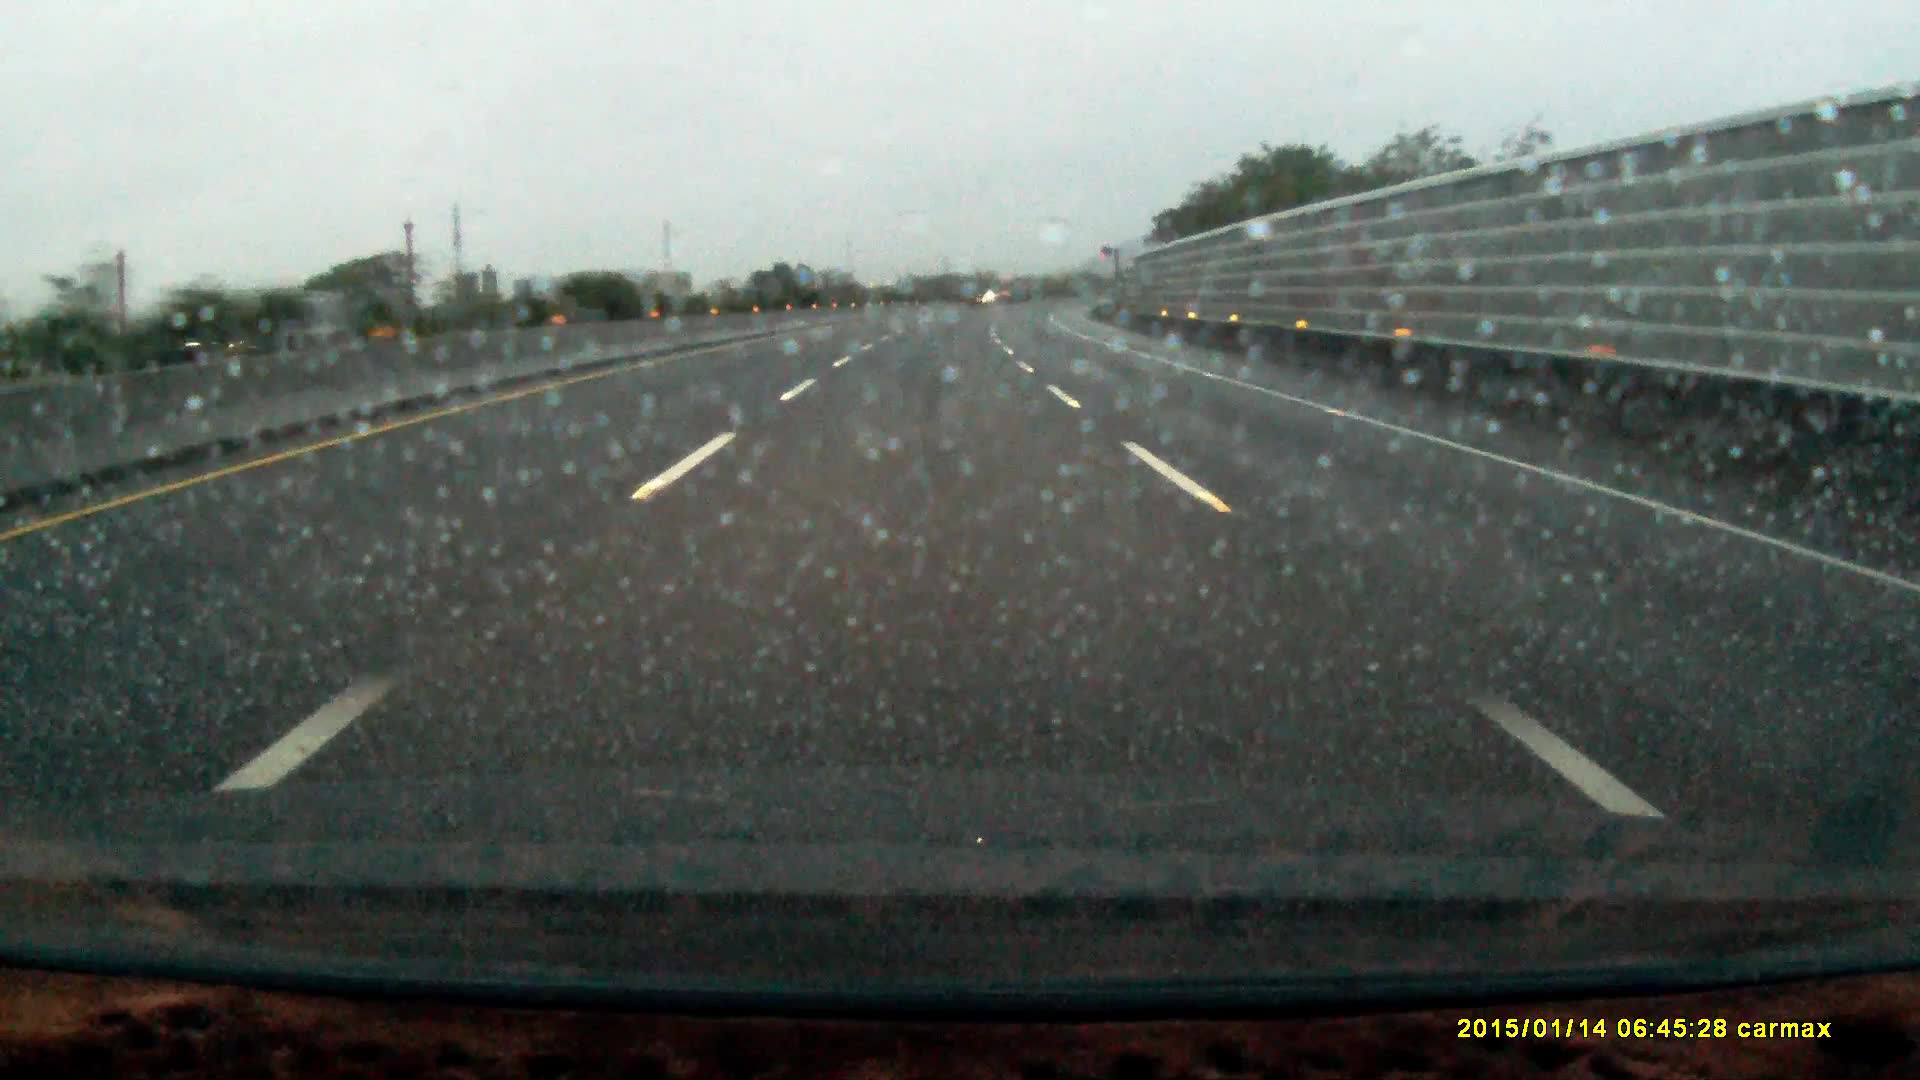vehicle: (182, 309, 302, 355)
